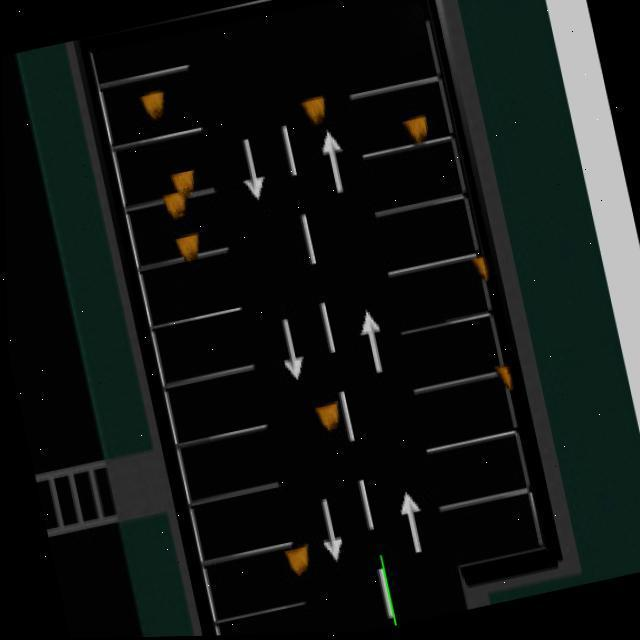garbage-trXY: (138, 94, 169, 120), (402, 118, 430, 145), (168, 170, 196, 196), (162, 190, 189, 216), (174, 235, 200, 260), (315, 404, 340, 428), (302, 99, 325, 123), (287, 548, 309, 573), (472, 253, 488, 281), (497, 363, 513, 387)
